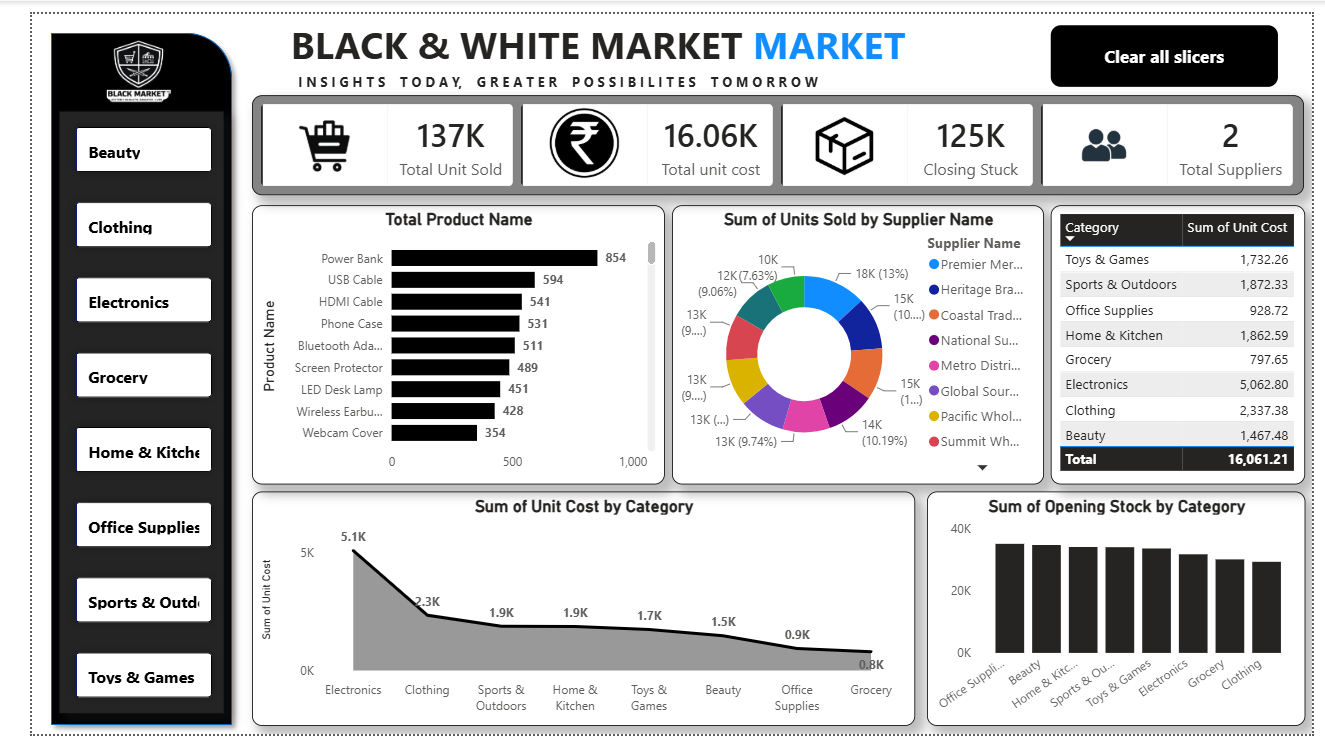

Layout of this report page (visuals, bound fields, positions):
{"tool":"powerbi","page":{"name":"Page 1","canvas":[1280,720],"ordinal":0},"visuals":[{"type":"areaChart","fields":{"Category":["Retail Inventory.Category"],"Y":["Sum(Retail Inventory.Unit Cost)"]},"box":[220,477.1,662.9,234.3],"z":0},{"type":"barChart","title":"Total Product Name","fields":{"Category":["Retail Inventory.Product Name"],"Y":["Sum(Retail Inventory.Unit Cost)"]},"box":[220,190.9,412.7,279.1],"z":1000},{"type":"donutChart","fields":{"Category":["Retail Inventory.Supplier Name"],"Y":["Sum(Retail Inventory.Units Sold)"]},"box":[640,190.9,371.8,279.1],"z":2000},{"type":"shape","box":[10,10,199,710],"z":3000},{"type":"advancedSlicerVisual","fields":{"Values":["Retail Inventory.Category"]},"box":[27.1,97.1,164.3,601.4],"z":4000},{"type":"lineStackedColumnComboChart","fields":{"Y":["Sum(Retail Inventory.Opening Stock)"],"Category":["Retail Inventory.Category"]},"box":[894.6,476.9,378.5,234.6],"z":5000},{"type":"textbox","box":[254.3,0,640,72.9],"z":6000},{"type":"tableEx","fields":{"Values":["Retail Inventory.Category","Sum(Retail Inventory.Unit Cost)"]},"box":[1018.2,190.9,254.5,279.1],"z":7000},{"type":"textbox","box":[261.4,54.3,757.1,37.1],"z":8000},{"type":"cardVisual","fields":{"Data":["Retail Inventory.Total Unit Sold","Retail Inventory.Total unit cost","Retail Inventory.Closing Stuck","Retail Inventory.Total Suppliers"]},"box":[220,80.7,1052.1,100],"z":9000},{"type":"image","box":[66.8,25,84.1,66.4],"z":10000},{"type":"actionButton","box":[1018.6,11.4,227.1,61.4],"z":11000}]}

Visuals, with their boxes in screenshot pixels (x1, y1, x2, y2), scaled from the page's 1280x720 canvas onto the 1325x744 screenshot:
areaChart - Retail Inventory.Category x Sum(Retail Inventory.Unit Cost): 228:493:914:735
"Total Product Name" barChart: 228:197:655:486
donutChart - Retail Inventory.Supplier Name x Sum(Retail Inventory.Units Sold): 662:197:1047:486
shape: 10:10:216:743
advancedSlicerVisual - Retail Inventory.Category: 28:100:198:722
lineStackedColumnComboChart - Sum(Retail Inventory.Opening Stock) x Retail Inventory.Category: 926:493:1318:735
textbox: 263:0:926:75
tableEx - Retail Inventory.Category x Sum(Retail Inventory.Unit Cost): 1054:197:1317:486
textbox: 271:56:1054:94
cardVisual - Retail Inventory.Total Unit Sold x Retail Inventory.Total unit cost: 228:83:1317:187
image: 69:26:156:94
actionButton: 1054:12:1289:75
